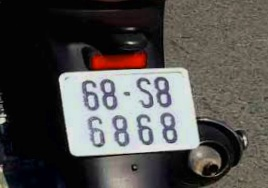Bien-so: (72, 69, 205, 154)
